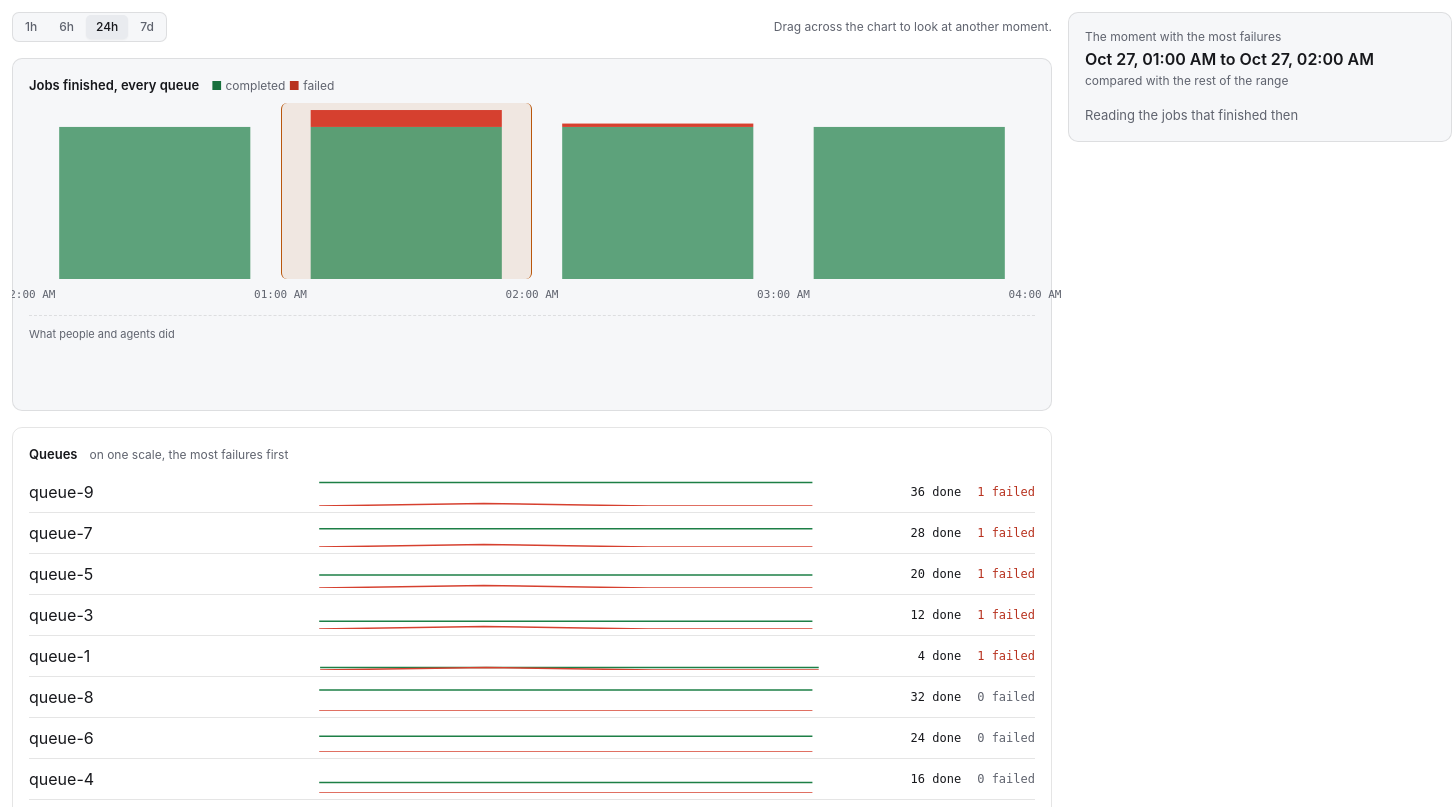
Scenario: TimelineView › a dragged moment replaces the one picked, and can be undone
Press the mouse on the element with test id "timeline-chart": (532,191) [29,103,1035,279]
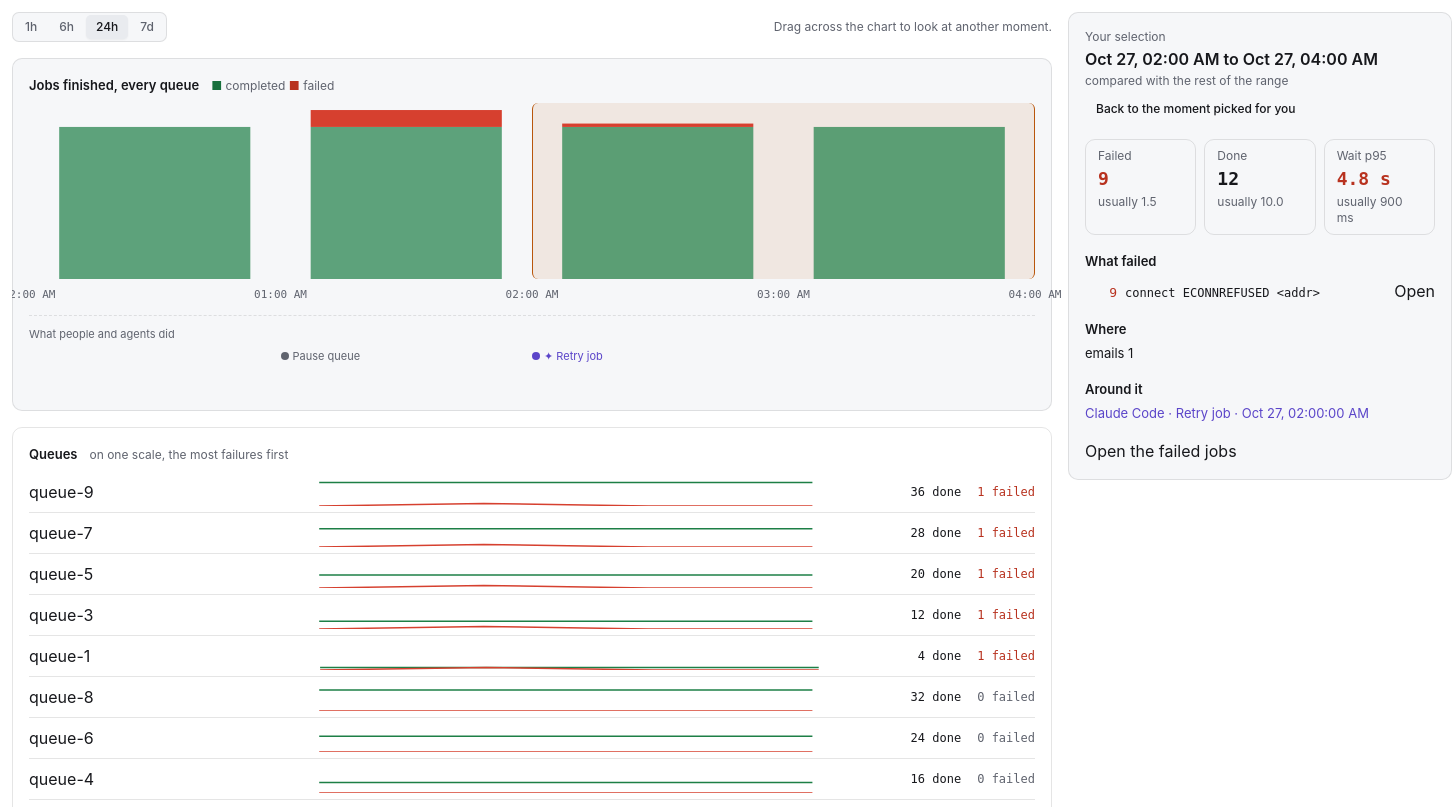
Expected: the text with test id "timeline-why" reads "Your selection", [1085,29,1166,44]
Click the button "Back to the moment picked for you": (1196,109) [1085,95,1307,123]
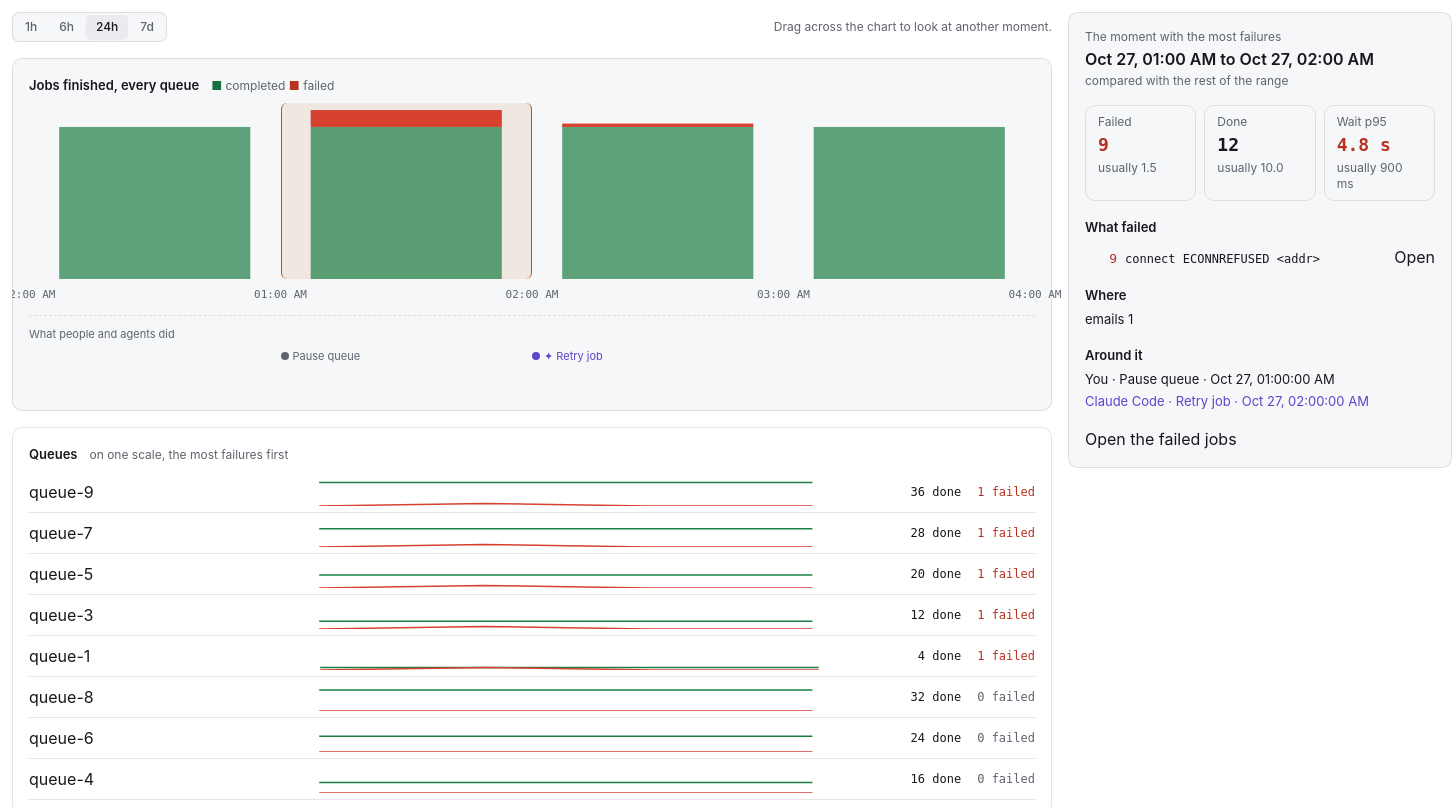
Expected: the text with test id "timeline-why" reads "The moment with the most failures", [1085,29,1281,44]
